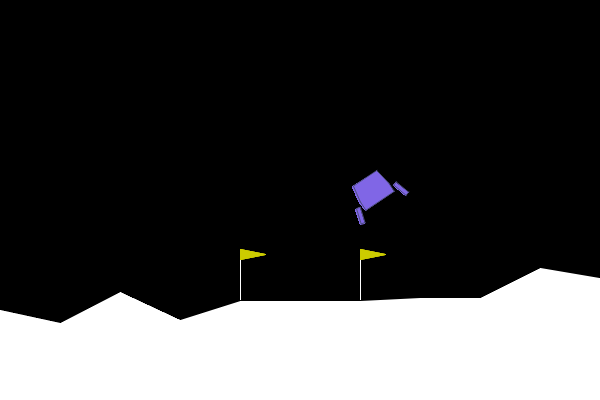lander: (338, 160, 411, 227)
